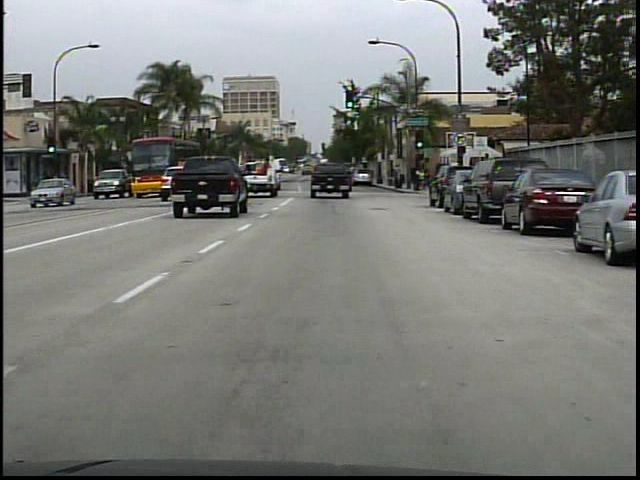person: (417, 166, 427, 192), (424, 169, 433, 191)
